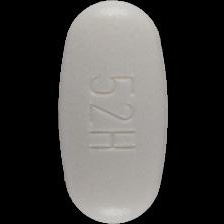0597-0041: (0, 0, 224, 224)
